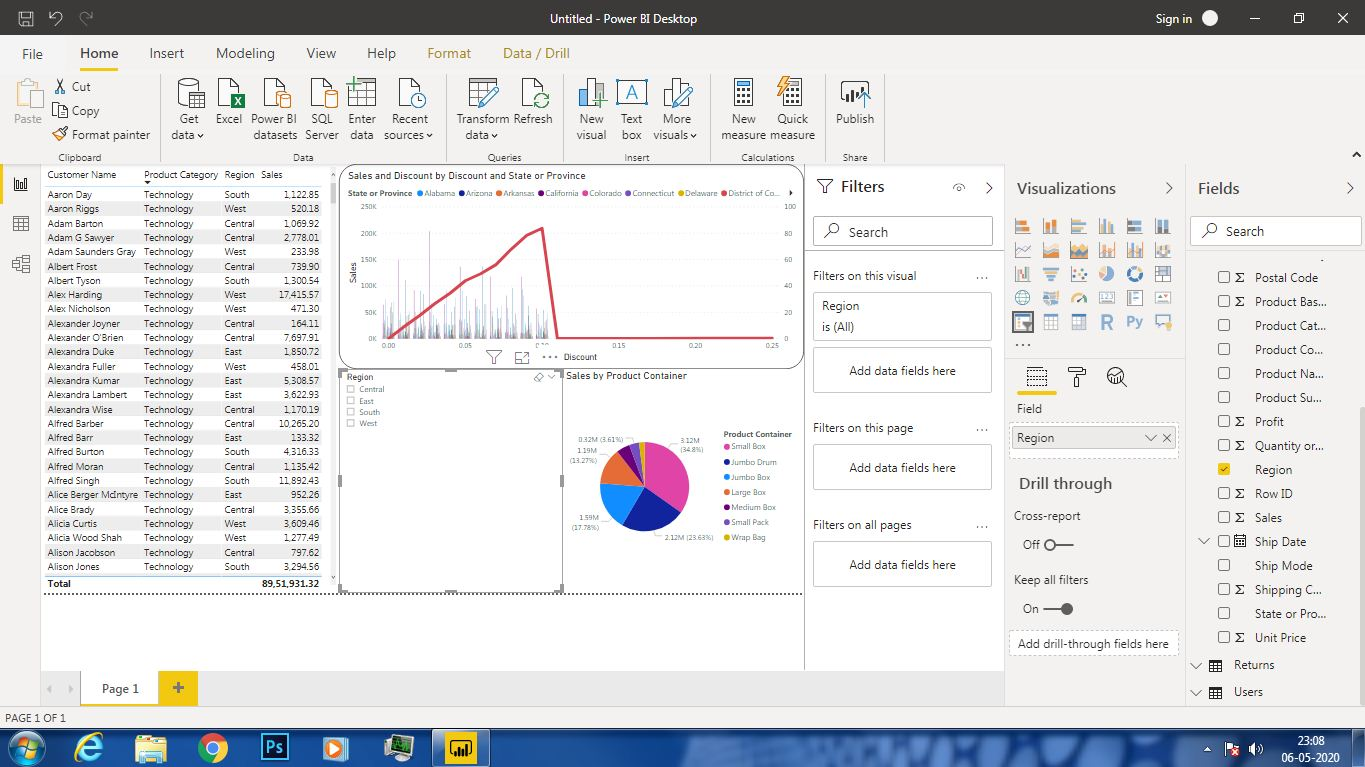

This screenshot's page, from the dashboard's own definition file:
{"tool":"powerbi","page":{"name":"Page 1","canvas":[1280,720],"ordinal":0},"visuals":[{"type":"tableEx","fields":{"Values":["Orders.Customer Name","Orders.Product Category","Orders.Region","Orders.Sales"]},"box":[0,0,499.9,719.7],"z":0},{"type":"lineClusteredColumnComboChart","fields":{"Category":["Orders.Discount"],"Series":["Orders.State or Province"],"Y":["Orders.Sales"],"Y2":["Orders.Discount"]},"box":[499.9,0,780.1,343.9],"z":1},{"type":"pieChart","fields":{"Category":["Orders.Product Container"],"Y":["Orders.Sales"]},"box":[875.7,343.9,404.3,375.8],"z":2},{"type":"slicer","fields":{"Values":["Orders.Region"]},"box":[499.9,343.9,375.8,375.8],"z":3}]}

Visuals, with their boxes on the page's 1280x720 design canvas (x1, y1, x2, y2). These are canvas units, not pixel positions in the 1365x767 screenshot, which may show the page scaled, cropped or inside an application window:
tableEx - Orders.Customer Name x Orders.Product Category: pyautogui.locateOnScreen(0, 0, 500, 720)
lineClusteredColumnComboChart - Orders.Discount x Orders.State or Province: pyautogui.locateOnScreen(500, 0, 1280, 344)
pieChart - Orders.Product Container x Orders.Sales: pyautogui.locateOnScreen(876, 344, 1280, 720)
slicer - Orders.Region: pyautogui.locateOnScreen(500, 344, 876, 720)
